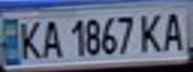1: (63, 15, 84, 56)
6: (100, 14, 121, 56)
7: (115, 12, 139, 55)
8: (81, 15, 103, 56)
A: (157, 8, 190, 53), (39, 17, 63, 60)
K: (136, 9, 169, 54), (15, 17, 45, 61)
